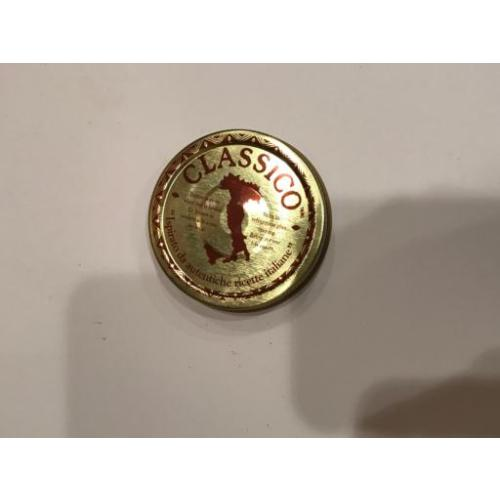metal: (146, 130, 332, 313)
